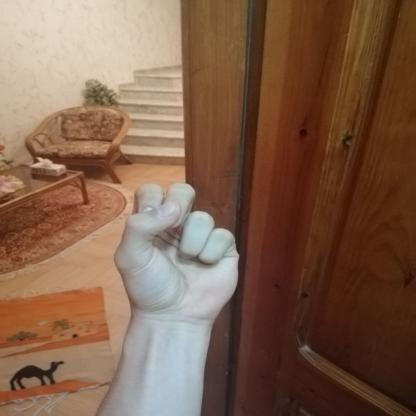QAAF: (93, 172, 262, 335)
